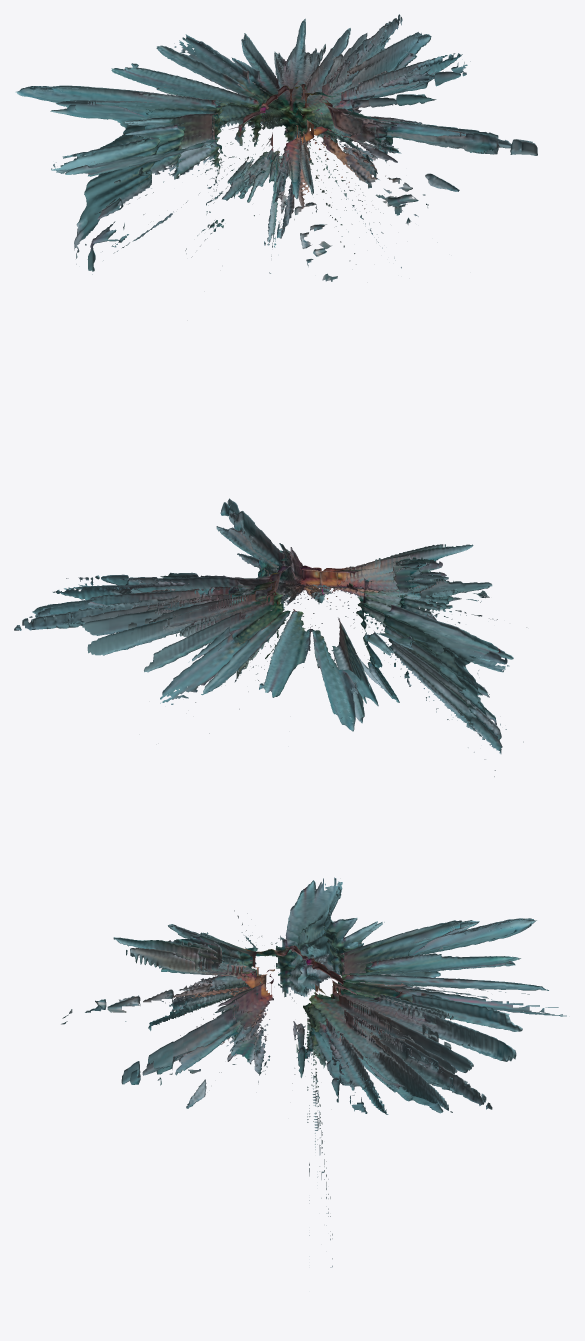
File: collider.glb
3 views of the same model, one above another, from view 1: azimuth 30°, elevation 25°; view 2: azimuth 150°, elevation 25°; view 3: azimuth 270°, elevation 25° (orthographic). The views are drawn at different scales.
Visible parts, largest first — view 1: world; view 2: world; view 3: world.
Part boxes in pixels (x1,y1,x2,y2): world: (15,14,537,281); world: (14,498,526,776); world: (61,877,566,1267).
Bounding box in the file's own units: 35.49 × 20.18 × 36.86.
